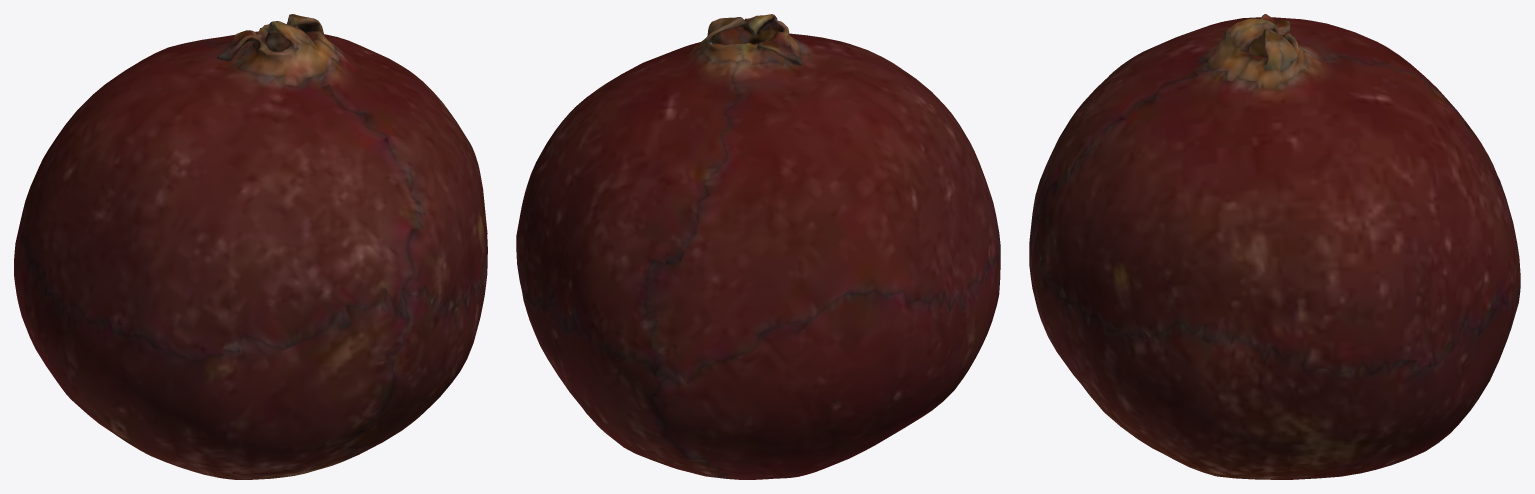
The model's file is food_pomegranate_01.glb.
The picture shows the model from 3 angles, left to right: view 1: azimuth 30°, elevation 25°; view 2: azimuth 150°, elevation 25°; view 3: azimuth 270°, elevation 25°; orthographic projection. The views are drawn at different scales.
Visible parts, largest first — view 1: food_pomegranate_01; view 2: food_pomegranate_01; view 3: food_pomegranate_01.
Boxes of the visible parts, x1,y1,x2,y2 form: food_pomegranate_01: (14, 14, 487, 479); food_pomegranate_01: (516, 14, 1000, 479); food_pomegranate_01: (1029, 14, 1520, 479).
Bounding box in the file's own units: 0.1143 × 0.115 × 0.1154.
1 material, 1 textured.
